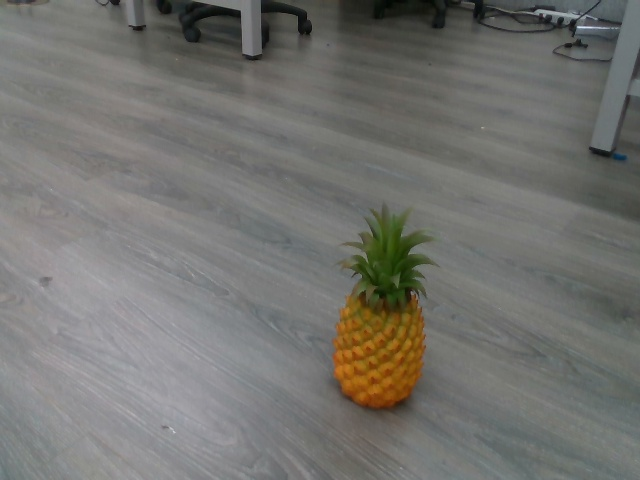pineapple: (327, 198, 435, 416)
